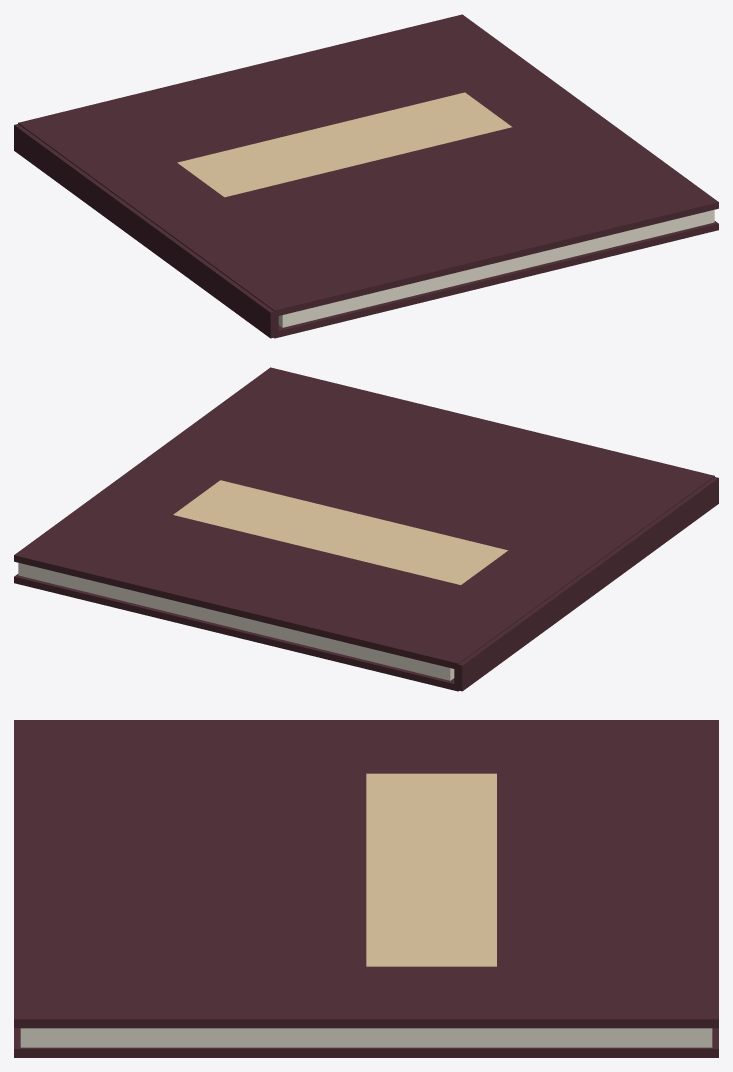
The model's file is khwaish-book.glb.
The picture shows the model from 3 angles, top to bottom: view 1: azimuth 30°, elevation 25°; view 2: azimuth 150°, elevation 25°; view 3: azimuth 270°, elevation 25°; orthographic projection. The views are drawn at different scales.
Parts seen in each view (by area): view 1: MemoraKeepsakeBook; view 2: MemoraKeepsakeBook; view 3: MemoraKeepsakeBook.
Boxes of the visible parts, <box> form: MemoraKeepsakeBook: <box>14,14,718,338</box>; MemoraKeepsakeBook: <box>14,367,718,691</box>; MemoraKeepsakeBook: <box>14,720,718,1057</box>.
Size of the model in its own units: 0.218 by 0.0131 by 0.216.
